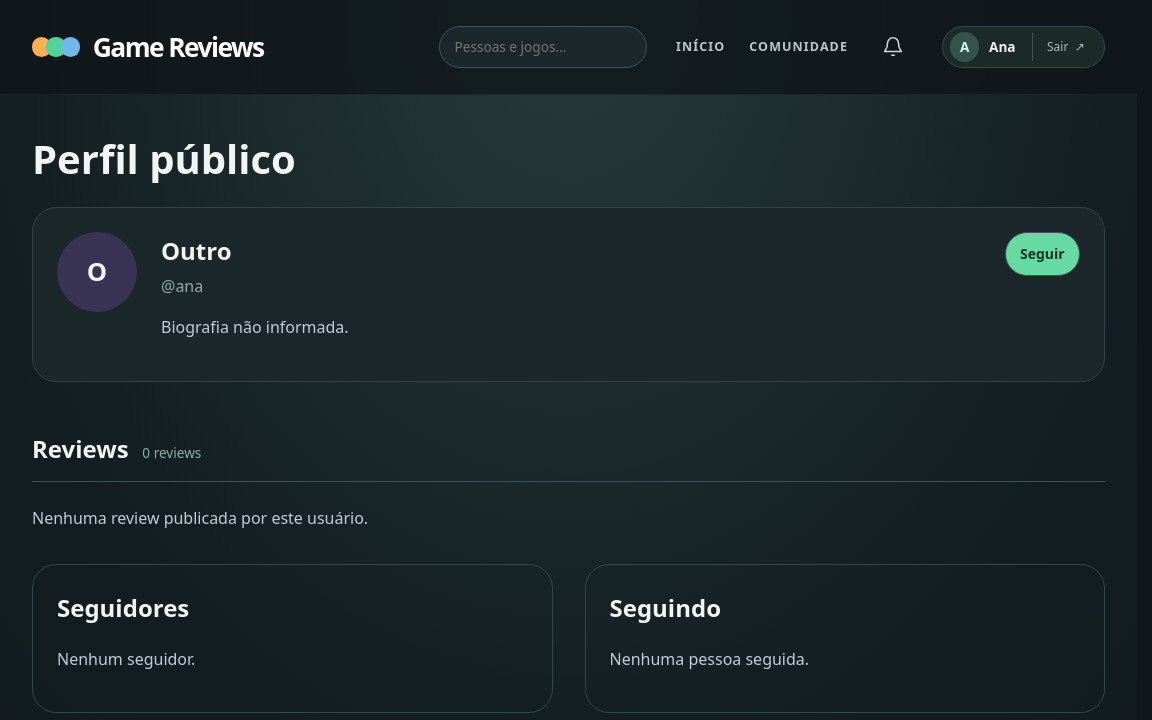
Test: seguir/deixar segue resposta da API e refresca conexões
Click the button "Seguir" at (1042, 254), box x1=1004 y1=232 x2=1080 y2=276
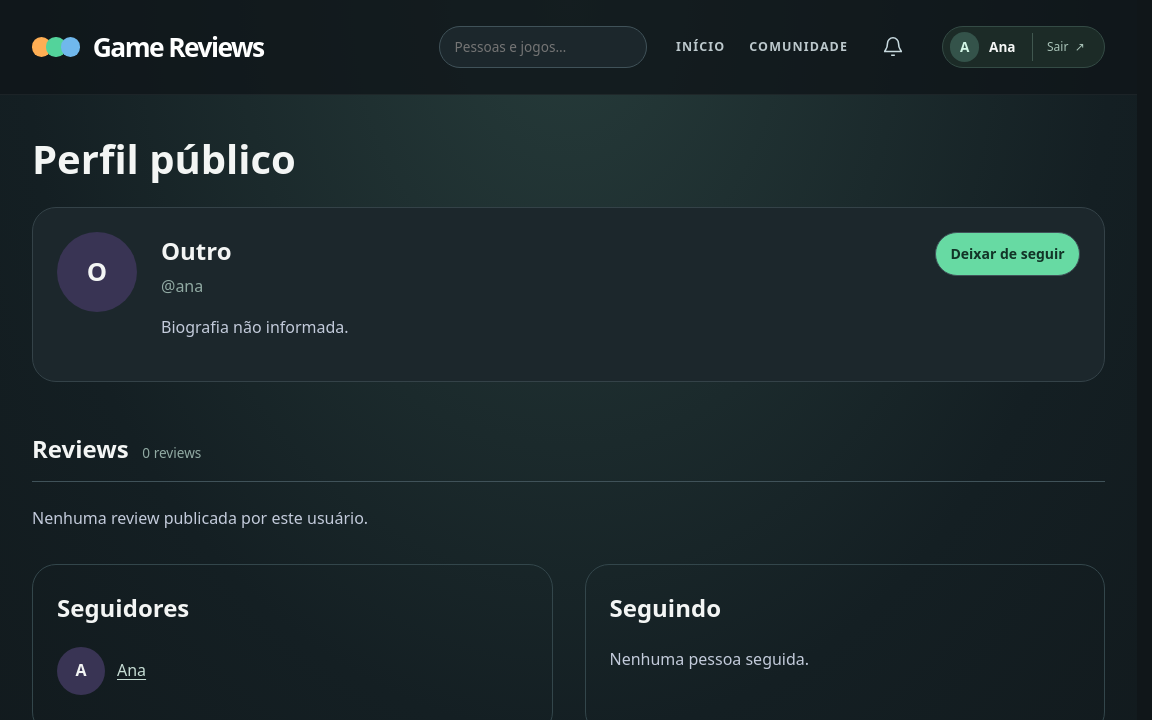
expect the link "Ana" is shown: met, box x1=117 y1=658 x2=146 y2=684
Click the button "Deixar de seguir" at (1008, 254), box x1=935 y1=232 x2=1080 y2=276
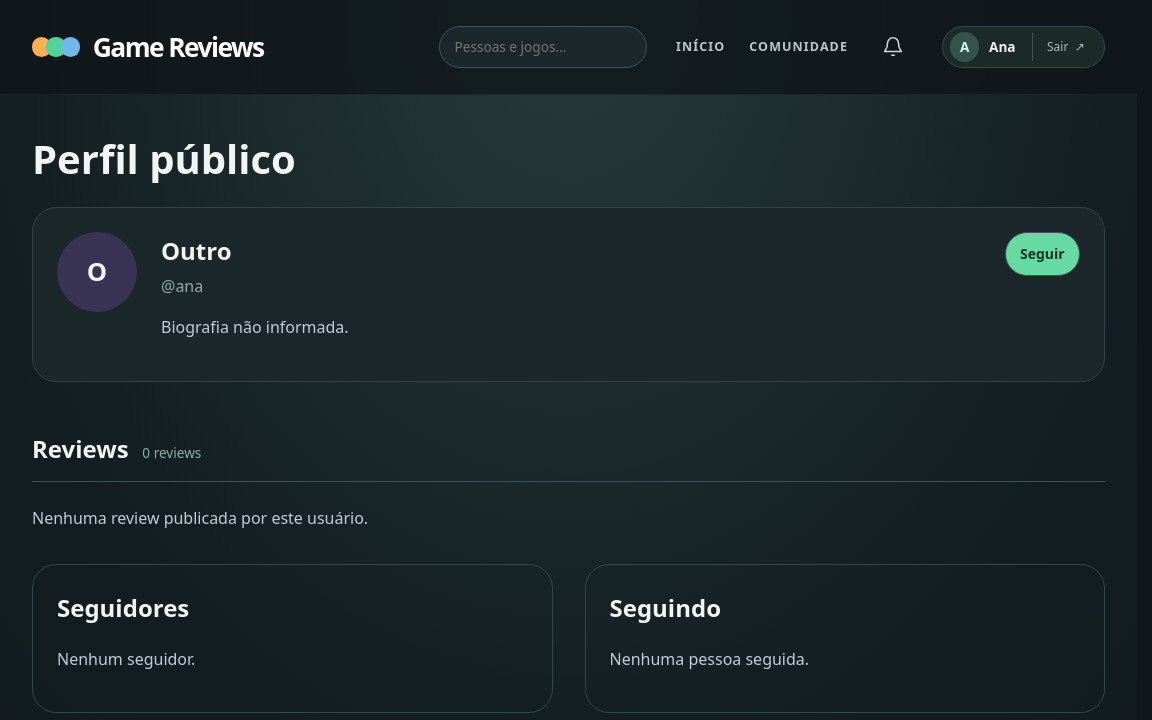
expect the text "Nenhum seguidor." is shown: met, box x1=57 y1=648 x2=195 y2=670
